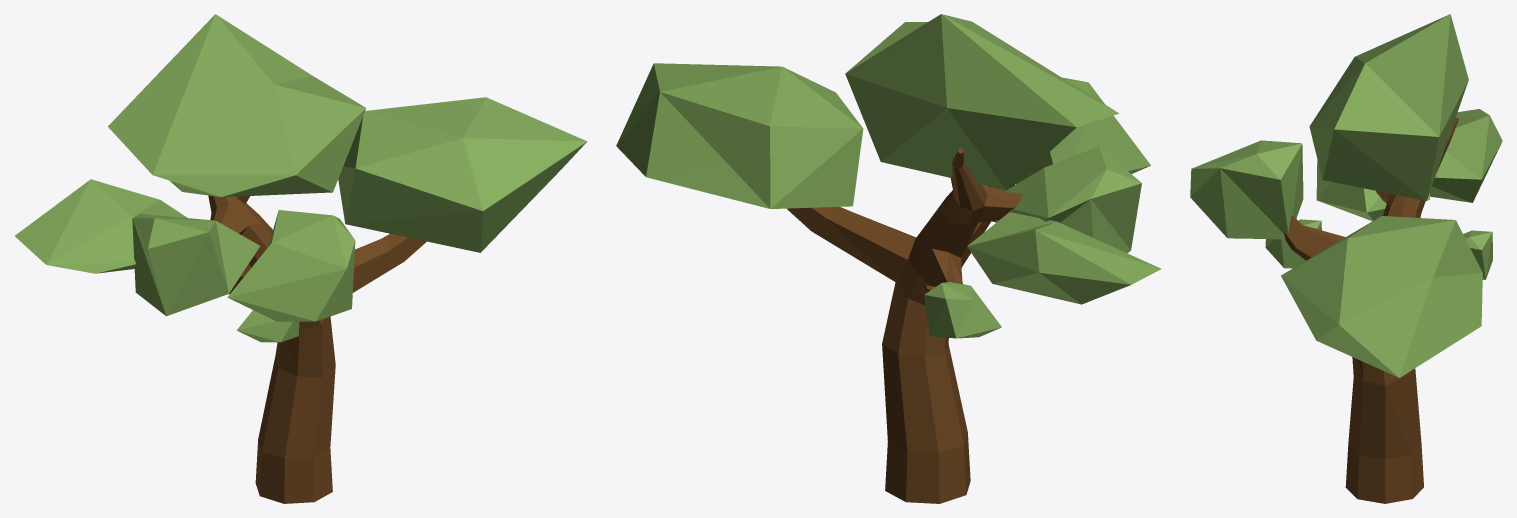
The model's file is Vegetation_Tree_Asian_02.fbx.
3 renders of one model, left to right at view 1: azimuth 30°, elevation 25°; view 2: azimuth 150°, elevation 25°; view 3: azimuth 270°, elevation 25°, orthographic. The views are drawn at different scales.
Parts seen in each view (by area): view 1: Vegetation_Tree_Asian_02; view 2: Vegetation_Tree_Asian_02; view 3: Vegetation_Tree_Asian_02.
Boxes of the visible parts, <box> form: Vegetation_Tree_Asian_02: <box>15,14,587,503</box>; Vegetation_Tree_Asian_02: <box>616,14,1161,503</box>; Vegetation_Tree_Asian_02: <box>1190,14,1502,503</box>.
Size of the model in its own units: 5938 by 5175 by 3246.
